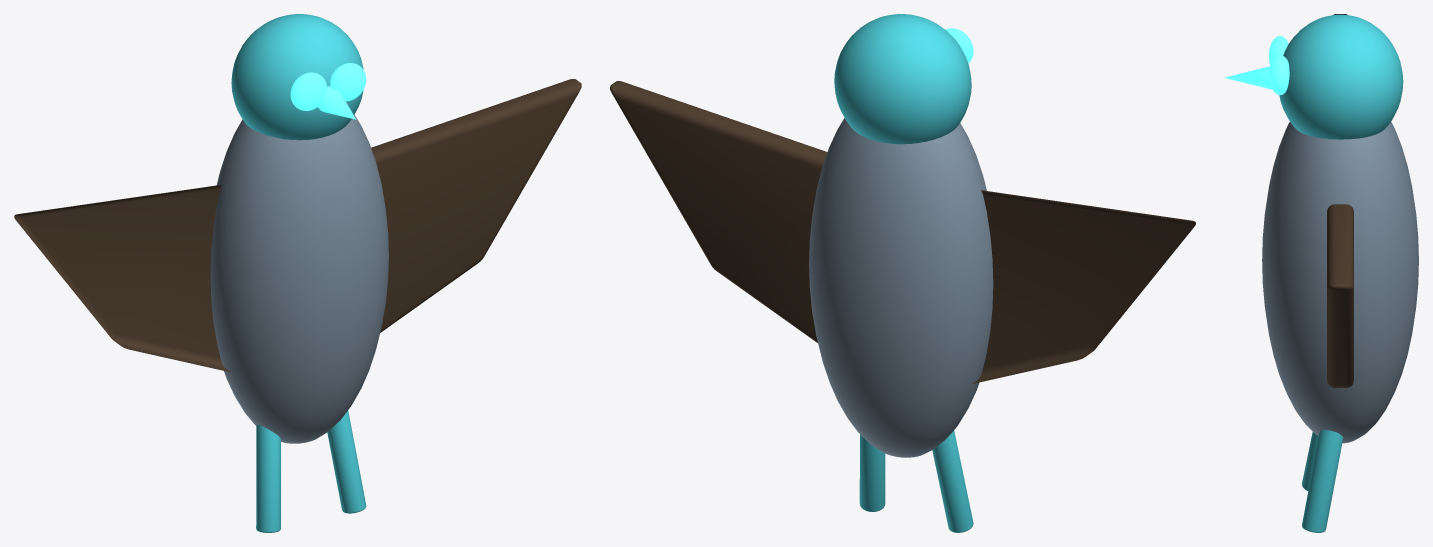
Rendered from avian_v3.glb.
3 views of the same model, side by side, from view 1: azimuth 30°, elevation 25°; view 2: azimuth 150°, elevation 25°; view 3: azimuth 270°, elevation 25° (orthographic). The views are drawn at different scales.
Parts seen in each view (by area): view 1: RAPTOR_BODY_PRIMARY, RAPTOR_WING_SECONDARY.001, RAPTOR_WING_SECONDARY, RAPTOR_HEAD_ACCENT, RAPTOR_LEG_ACCENT, RAPTOR_LEG_ACCENT.001, EYE_EMISSIVE, EYE_EMISSIVE.001, RAPTOR_BEAK_EMISSIVE; view 2: RAPTOR_BODY_PRIMARY, RAPTOR_WING_SECONDARY.001, RAPTOR_WING_SECONDARY, RAPTOR_HEAD_ACCENT, RAPTOR_LEG_ACCENT, RAPTOR_LEG_ACCENT.001; view 3: RAPTOR_BODY_PRIMARY, RAPTOR_HEAD_ACCENT, RAPTOR_WING_SECONDARY.001, RAPTOR_LEG_ACCENT.001, EYE_EMISSIVE.001, RAPTOR_BEAK_EMISSIVE, RAPTOR_LEG_ACCENT, EYE_EMISSIVE.
Part boxes in pixels (x1=…): RAPTOR_BODY_PRIMARY: x1=210, y1=115, x2=388, y2=443; RAPTOR_WING_SECONDARY.001: x1=371, y1=79, x2=581, y2=332; RAPTOR_WING_SECONDARY: x1=14, y1=184, x2=231, y2=372; RAPTOR_HEAD_ACCENT: x1=231, y1=14, x2=363, y2=140; RAPTOR_LEG_ACCENT: x1=256, y1=424, x2=280, y2=532; RAPTOR_LEG_ACCENT.001: x1=327, y1=410, x2=366, y2=513; EYE_EMISSIVE: x1=290, y1=72, x2=327, y2=110; EYE_EMISSIVE.001: x1=330, y1=63, x2=366, y2=101; RAPTOR_BEAK_EMISSIVE: x1=318, y1=86, x2=356, y2=119; RAPTOR_BODY_PRIMARY: x1=809, y1=118, x2=993, y2=457; RAPTOR_WING_SECONDARY.001: x1=610, y1=81, x2=827, y2=342; RAPTOR_WING_SECONDARY: x1=972, y1=190, x2=1195, y2=383; RAPTOR_HEAD_ACCENT: x1=834, y1=14, x2=971, y2=144; RAPTOR_LEG_ACCENT: x1=932, y1=430, x2=973, y2=532; RAPTOR_LEG_ACCENT.001: x1=859, y1=434, x2=885, y2=511; RAPTOR_BODY_PRIMARY: x1=1262, y1=121, x2=1418, y2=443; RAPTOR_HEAD_ACCENT: x1=1279, y1=14, x2=1403, y2=139; RAPTOR_WING_SECONDARY.001: x1=1327, y1=204, x2=1353, y2=387; RAPTOR_LEG_ACCENT.001: x1=1302, y1=430, x2=1343, y2=532; EYE_EMISSIVE.001: x1=1269, y1=55, x2=1289, y2=94; RAPTOR_BEAK_EMISSIVE: x1=1224, y1=66, x2=1272, y2=89; RAPTOR_LEG_ACCENT: x1=1302, y1=432, x2=1318, y2=490; EYE_EMISSIVE: x1=1269, y1=36, x2=1288, y2=64.
Size of the model in its own units: 2.88 by 2.41 by 0.87.
